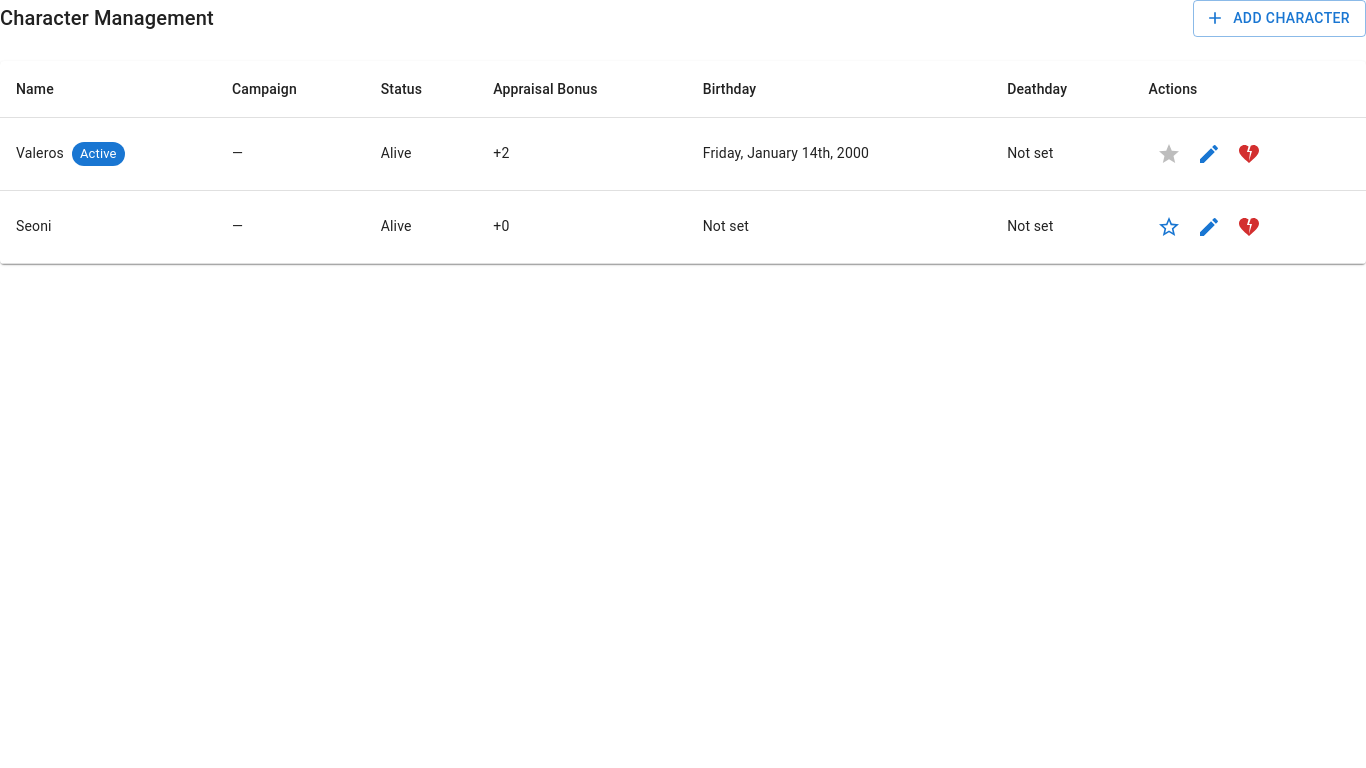
Test: CharacterTab › prefills the edit dialog from the stored dates and saves the change
The image size is (1366, 768).
Expected: the text "Valeros" is shown, left=16, top=146, right=64, bottom=162
Click the button named "Edit Character" in the row of "Valeros" at {"x": 1208, "y": 154}, box left=1188, top=134, right=1228, bottom=174
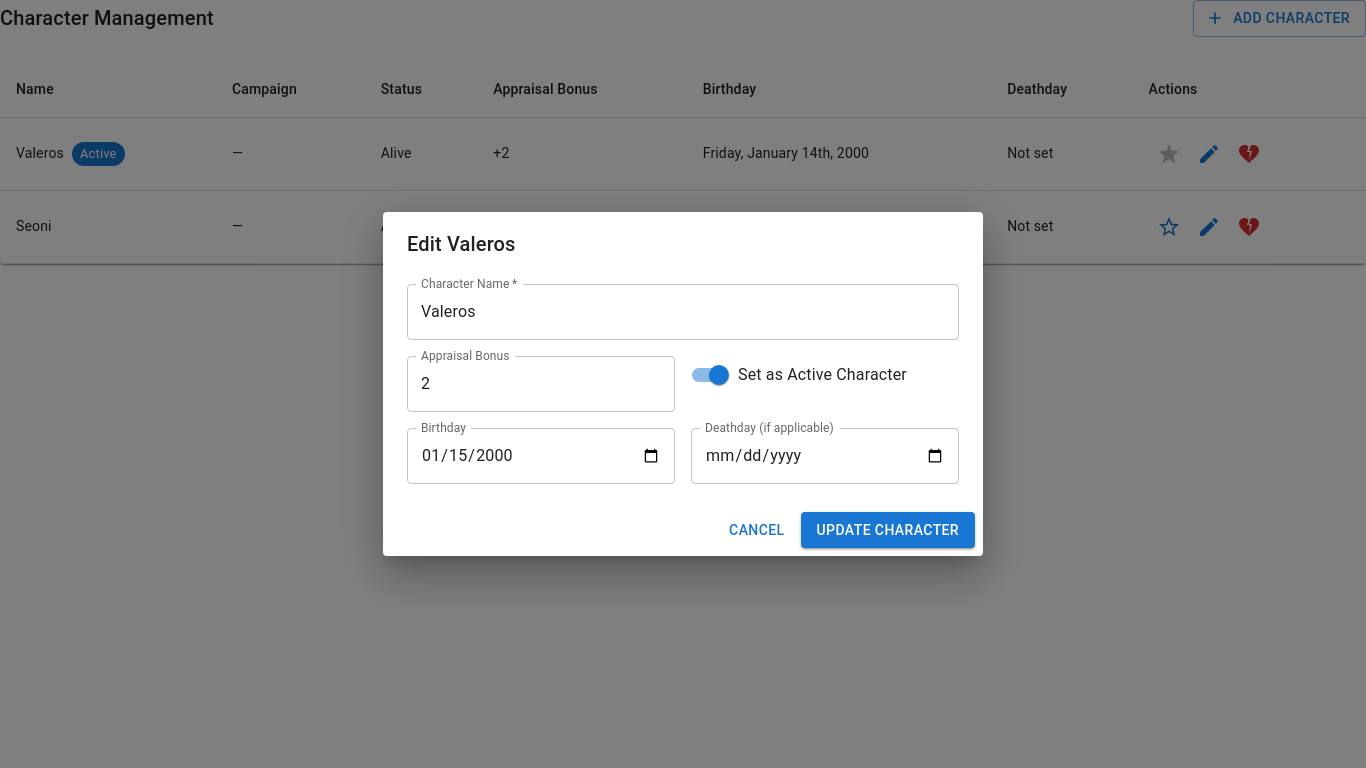
Expected: the date field labelled "Birthday" holds "2000-01-15", left=407, top=428, right=675, bottom=484
Replace the text in the field labelled "Character Name *" with "Valeros the Bold" at {"x": 683, "y": 312}, box left=407, top=284, right=959, bottom=340
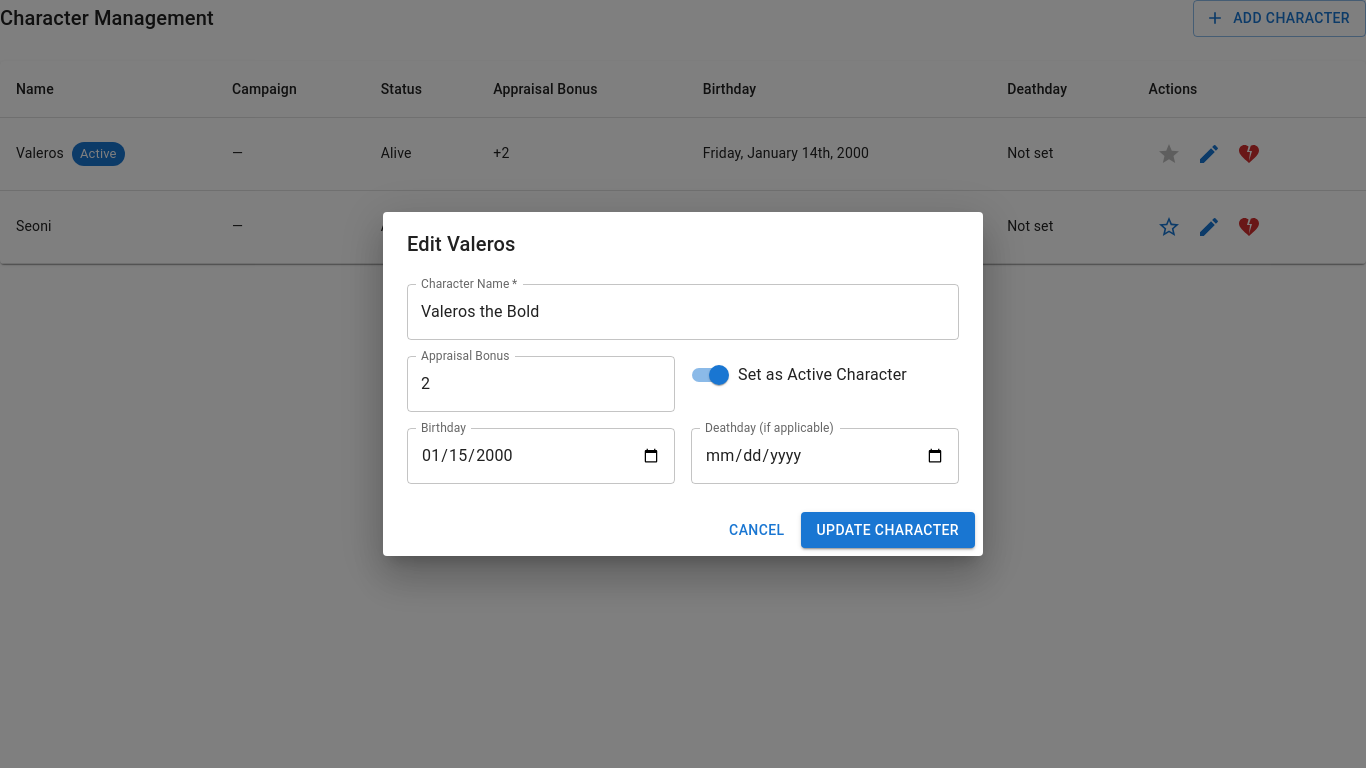
Click the button "Update Character" at {"x": 888, "y": 530}, box left=800, top=512, right=975, bottom=548
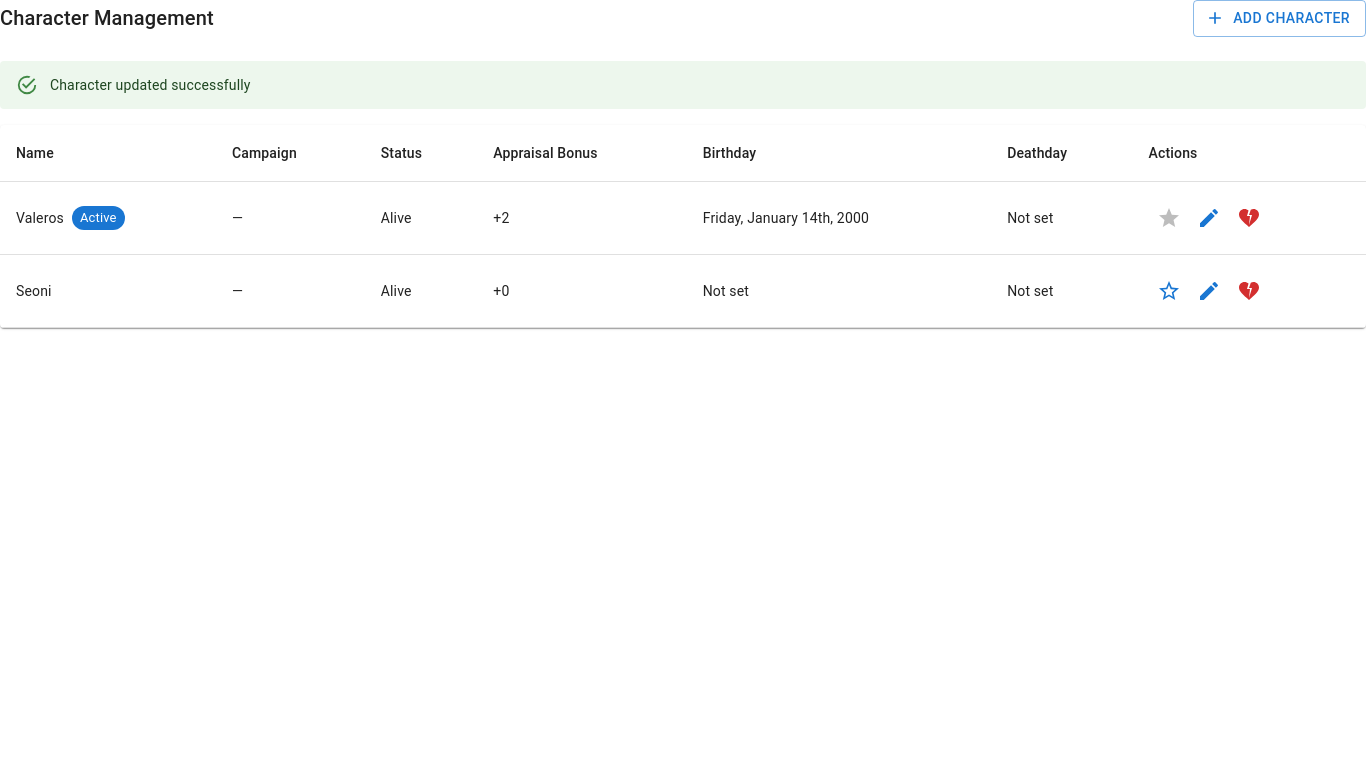
Expected: the text "Character updated successfully" is shown, left=50, top=76, right=250, bottom=92
